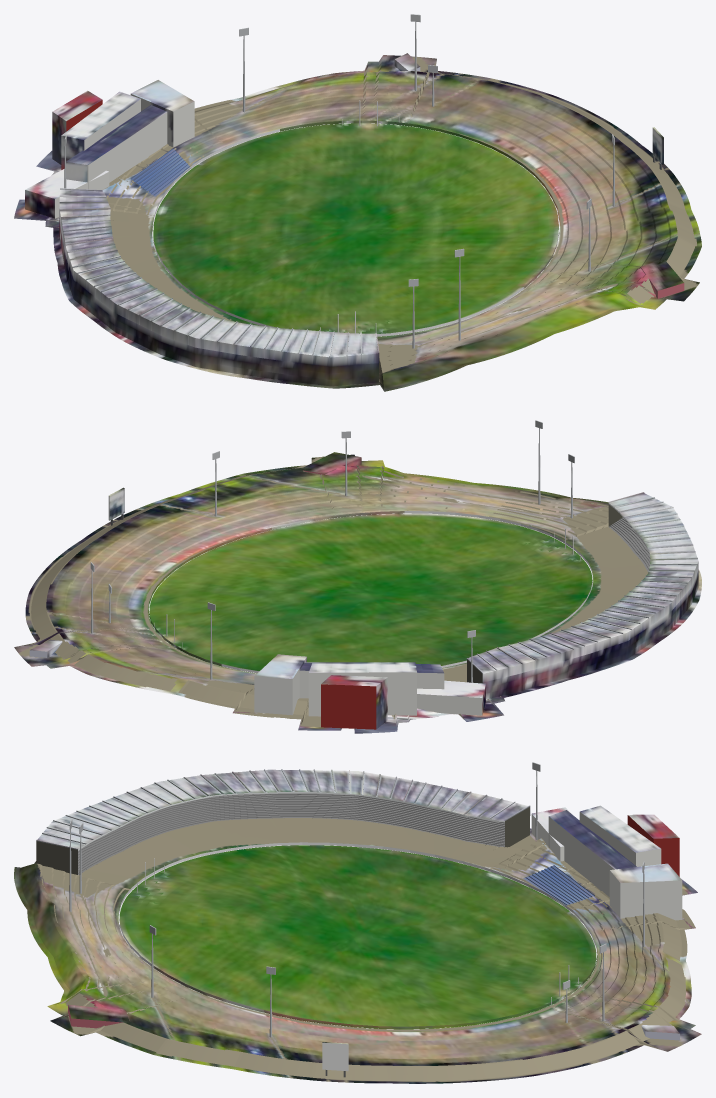
Rendered from moorabbin.glb.
3 views of the same model, one above another, from view 1: azimuth 30°, elevation 25°; view 2: azimuth 150°, elevation 25°; view 3: azimuth 270°, elevation 25° (orthographic). The views are drawn at different scales.
Parts seen in each view (by area): view 1: pitch, terrace, grandstand, club_darkroof, club_sawtooth, fence, club_greyroof, club_whiteblock, light_poles, club_redtower, blue_seats, red_shed; view 2: pitch, terrace, grandstand, club_redtower, club_sawtooth, club_greyroof, club_whiteblock, fence, light_poles, club_darkroof, red_shed; view 3: terrace, pitch, grandstand, club_greyroof, club_darkroof, fence, club_sawtooth, light_poles, club_redtower, blue_seats, red_shed, club_whiteblock (+2 smaller).
Boxes of the visible parts, x1,y1,x2,y2 form: pitch: (153,123,558,333); terrace: (14,55,701,391); grandstand: (59,188,379,386); club_darkroof: (66,105,167,189); club_sawtooth: (61,91,140,169); fence: (152,120,559,336); club_greyroof: (130,80,194,147); club_whiteblock: (25,169,109,218); light_poles: (64,14,615,348); club_redtower: (52,90,102,164); blue_seats: (131,148,191,196); red_shed: (640,259,684,298); pitch: (149,513,592,671); terrace: (14,454,701,733); grandstand: (466,492,698,699); club_redtower: (321,675,387,729); club_sawtooth: (308,662,416,716); club_greyroof: (254,654,306,715); club_whiteblock: (417,680,485,715); fence: (148,511,593,673); light_poles: (90,420,574,682); club_darkroof: (299,662,444,698); red_shed: (299,452,361,474); terrace: (14,818,701,1083); pitch: (119,845,596,1026); grandstand: (36,769,530,875); club_greyroof: (609,863,682,920); club_darkroof: (548,810,636,896); fence: (118,842,597,1029); club_sawtooth: (579,805,661,866); light_poles: (69,762,644,1037); club_redtower: (627,814,679,876); blue_seats: (523,865,594,905); red_shed: (68,1004,129,1028); club_whiteblock: (531,807,571,861).
Size of the model in its own units: 234 by 36.28 by 236.
